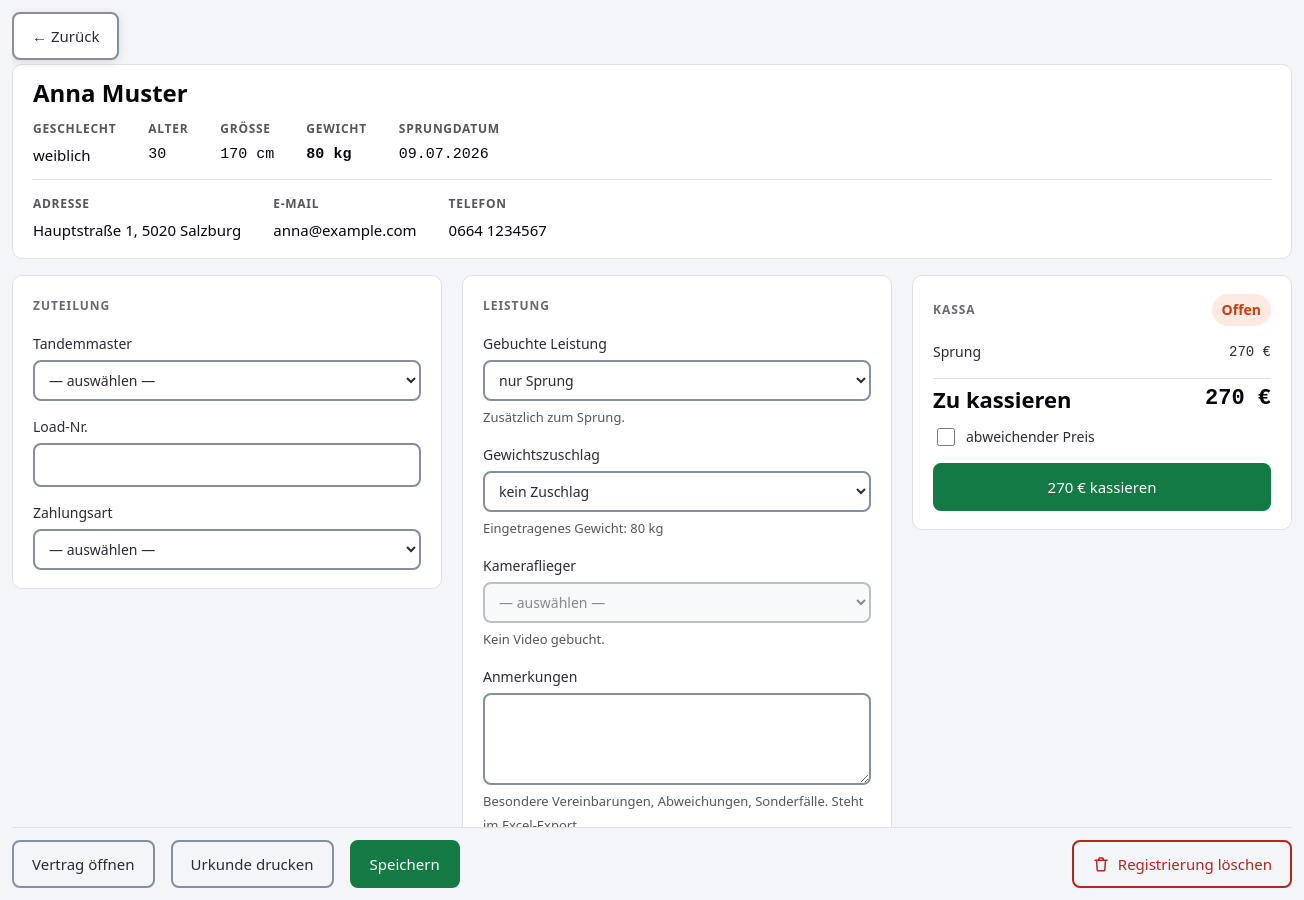
it: Detail › keeps what the voucher is together, and what it costs in the Kassa
Check: the text "Zu kassieren" is shown, box [933, 387, 1071, 411]
Check: the element "Gutschein" is not shown
Select "Gutschein" in the dropdown labelled "Zahlungsart" at (227, 550), box [33, 529, 421, 570]
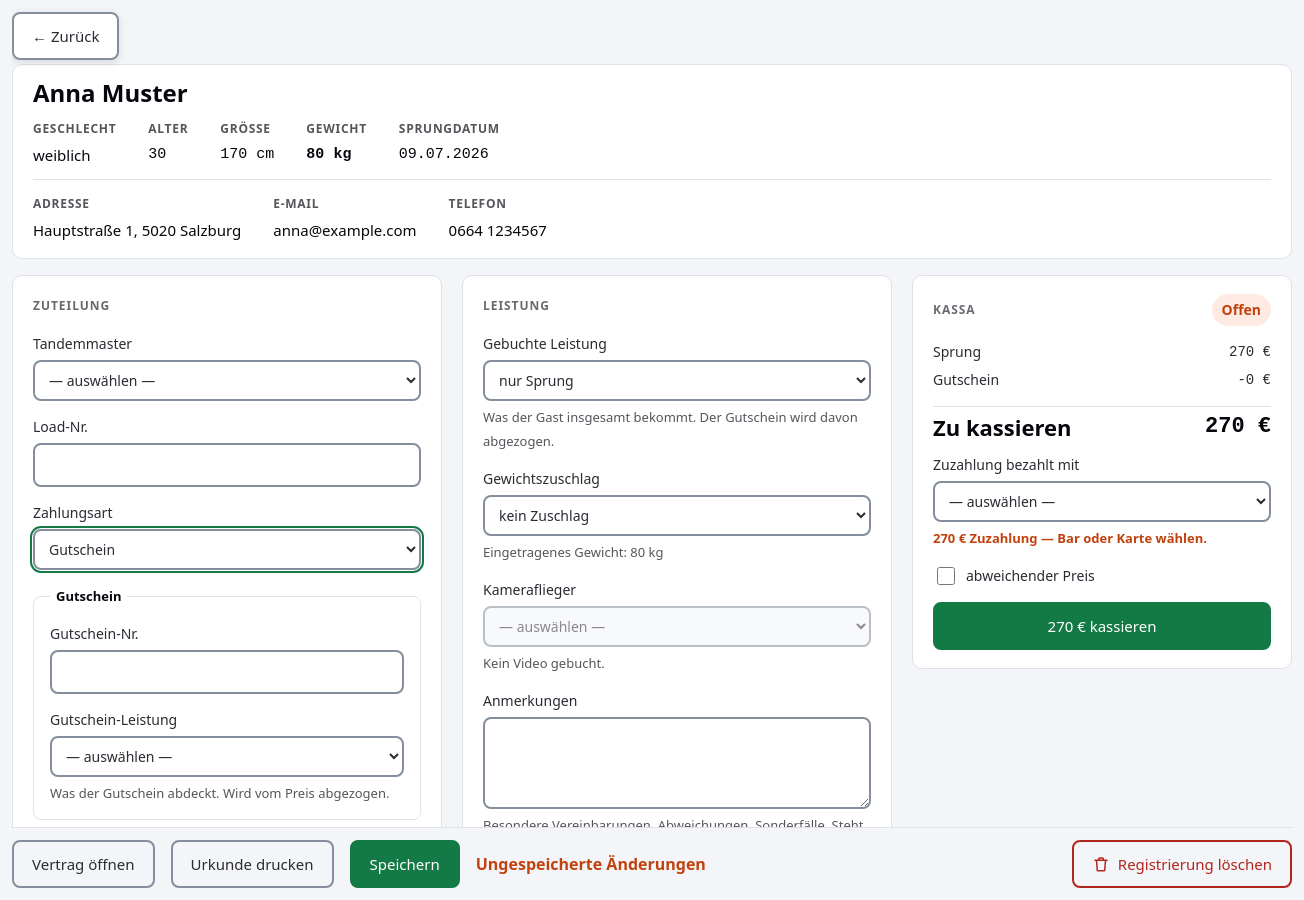
Check: the field labelled "Gutschein-Nr." is shown, box [50, 650, 404, 694]
Check: the dropdown labelled "Zuzahlung bezahlt mit" is shown, box [933, 481, 1271, 522]
Select "Bar" in the dropdown labelled "Zahlungsart" at (227, 550), box [33, 529, 421, 570]
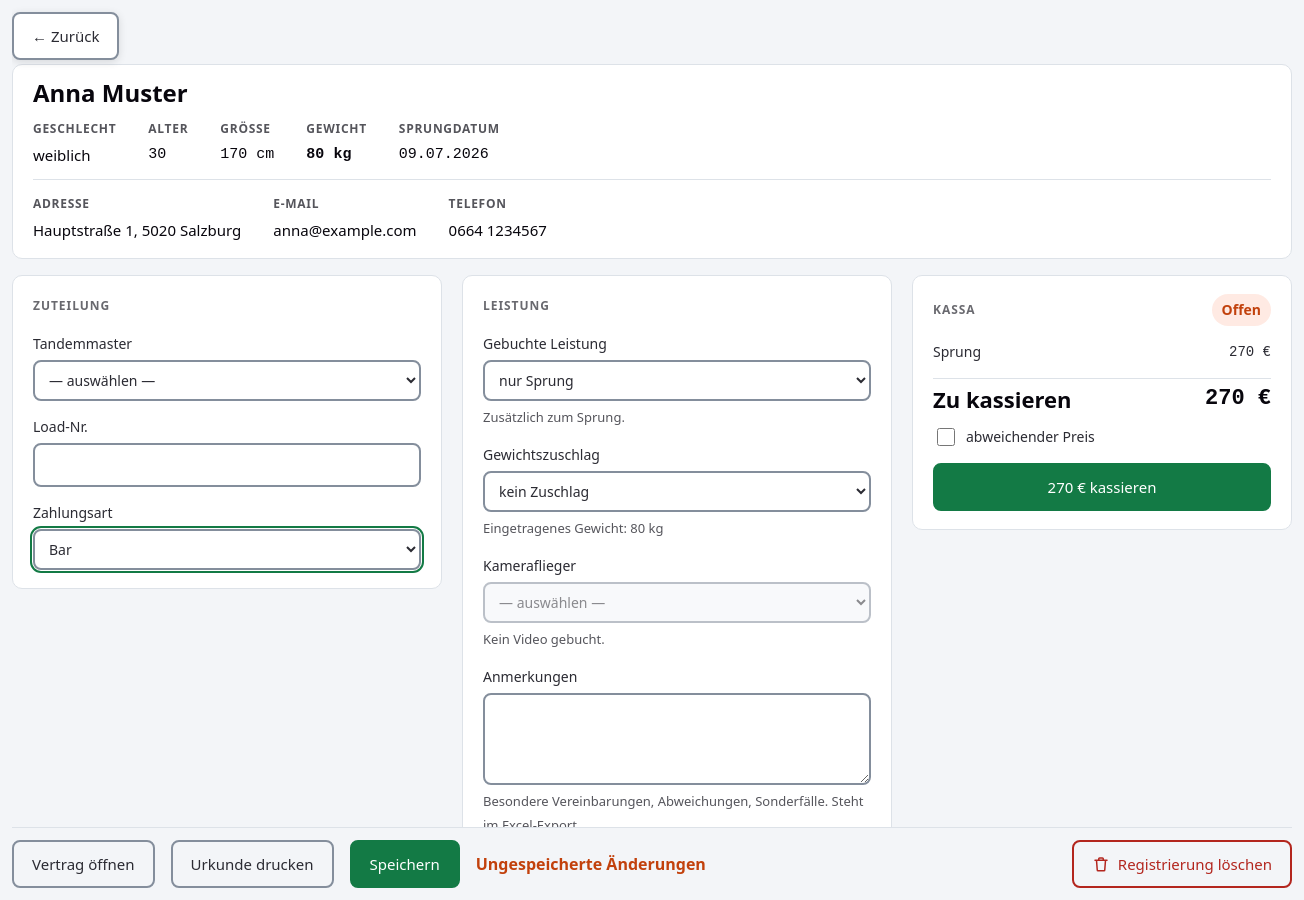
Check: the text "Gutschein" is gone
